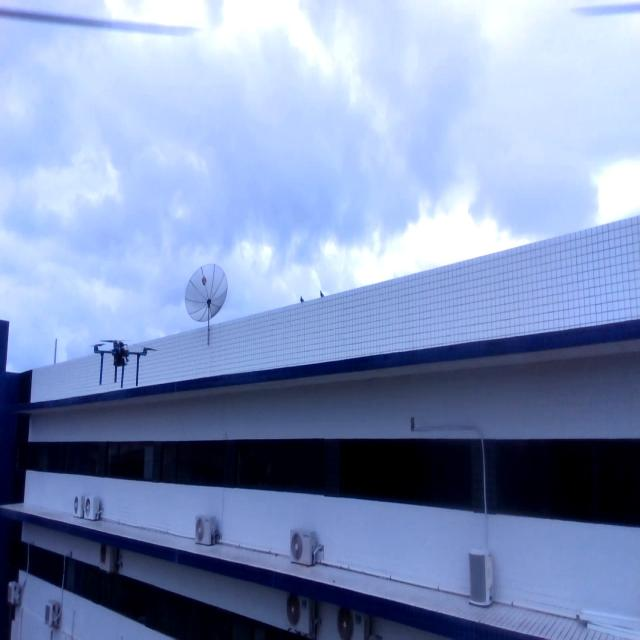-uav-: (88, 331, 158, 398)
